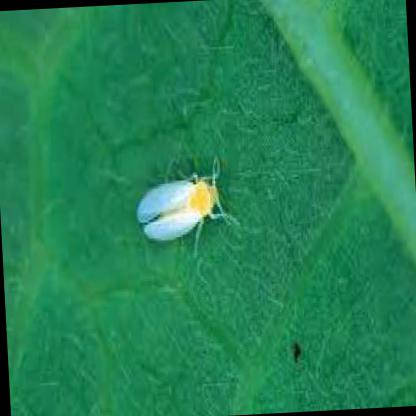whitefly: (137, 182, 219, 245)
